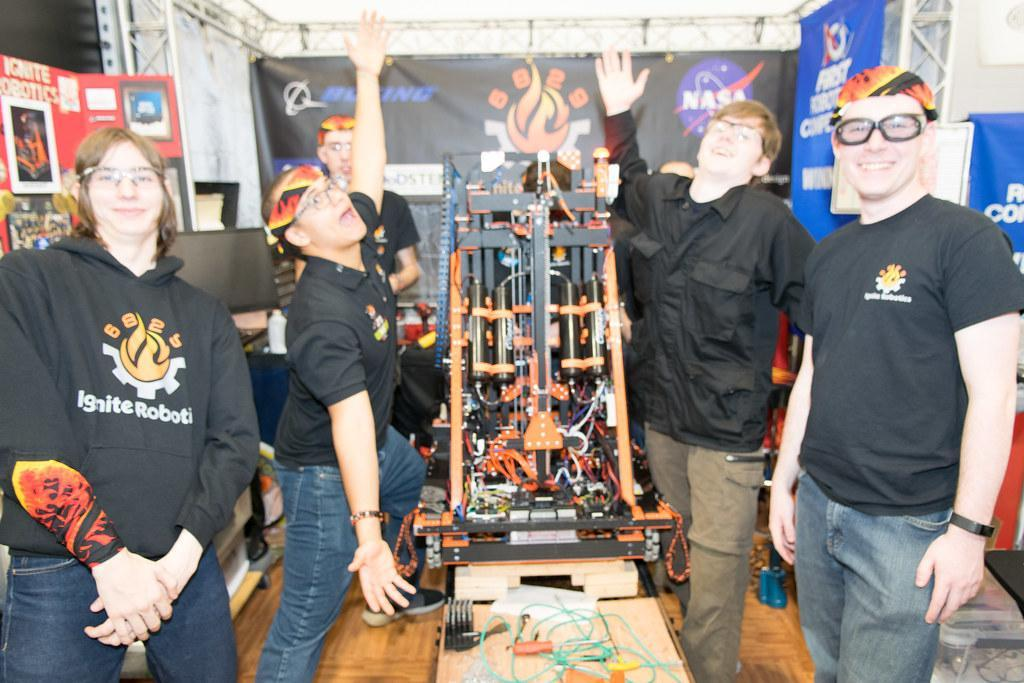robot: (383, 142, 710, 598)
